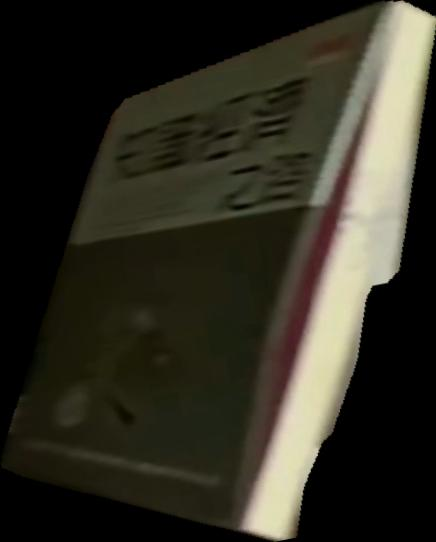backward: (1, 1, 436, 542)
